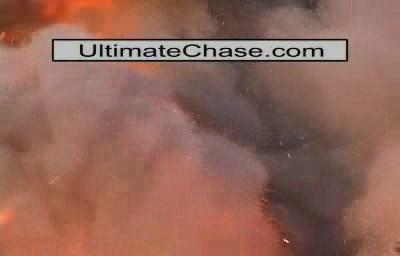smoke: (36, 71, 147, 206), (330, 66, 388, 108)
